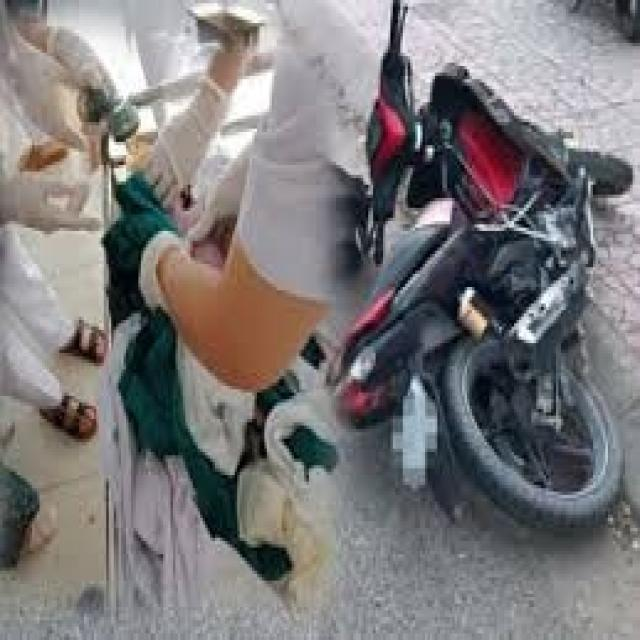accident: (310, 1, 640, 542)
